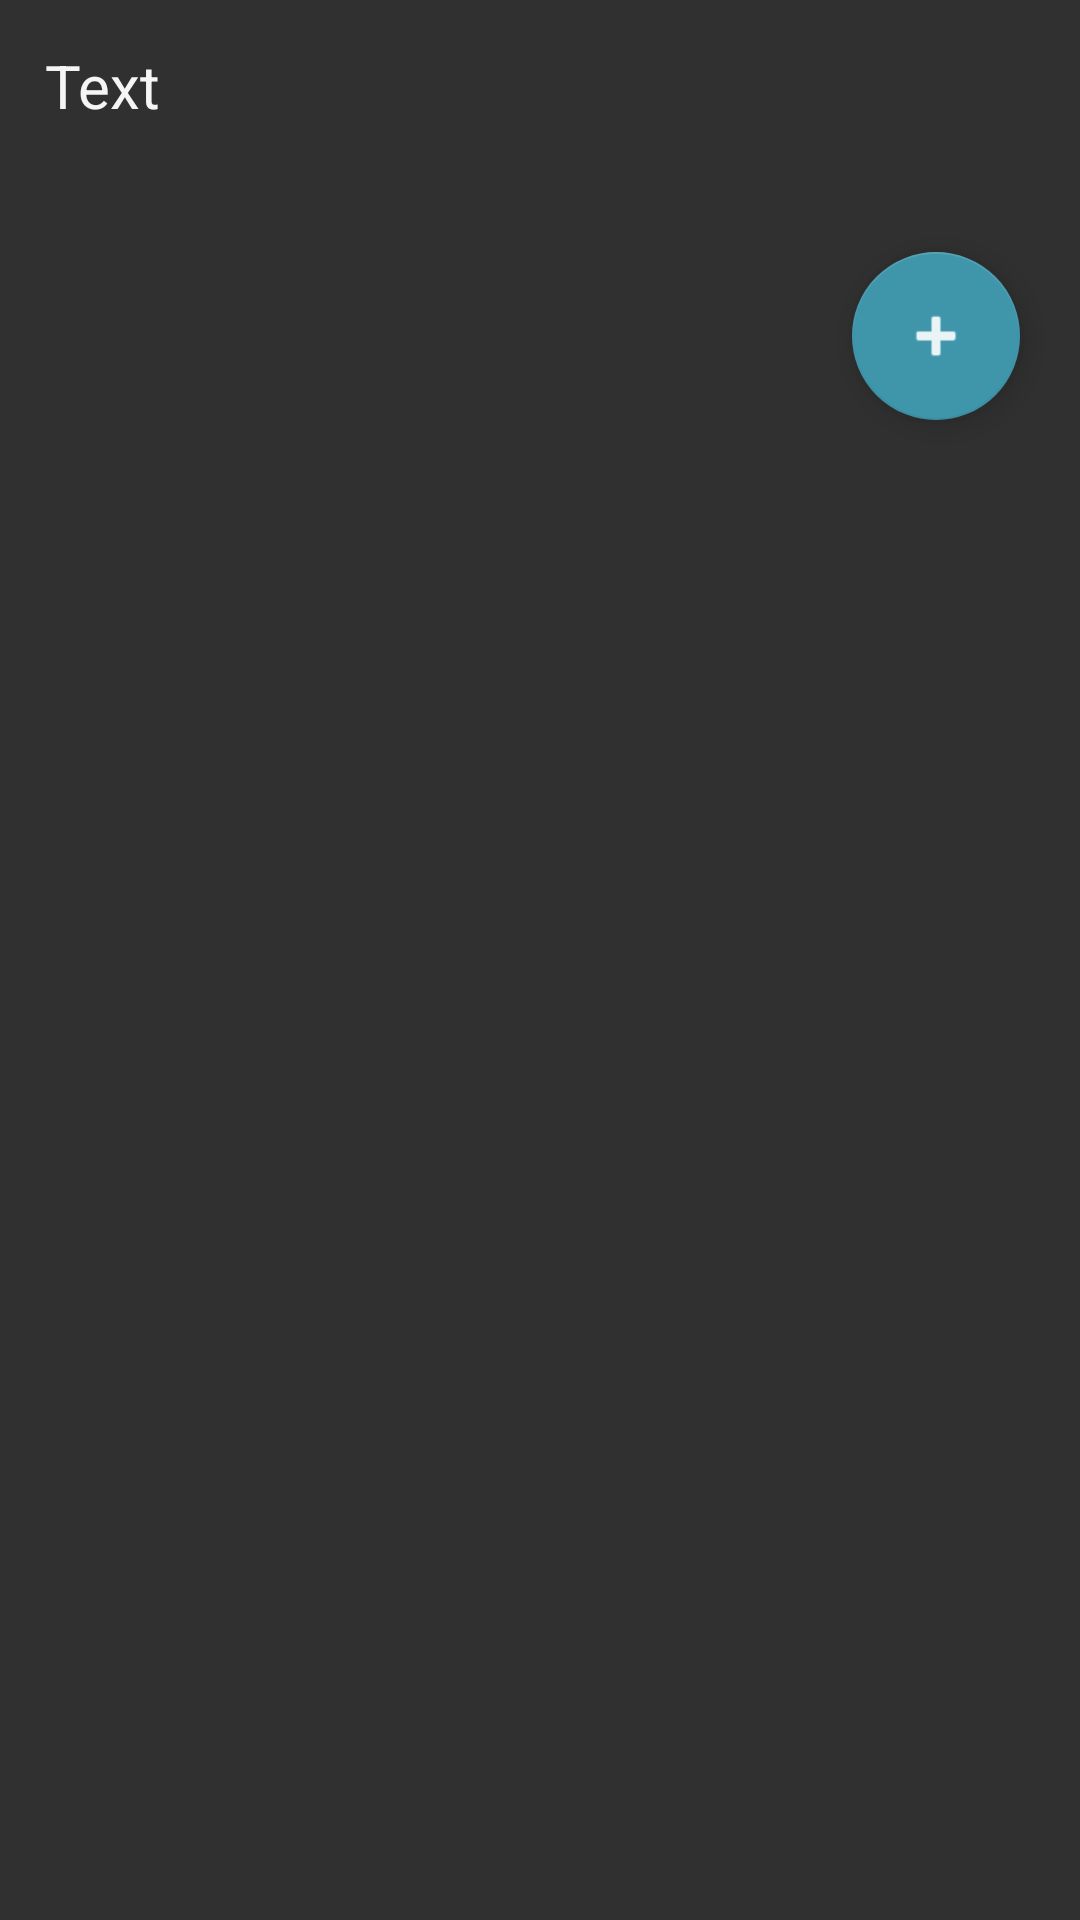

Icons on this 1080x1920 Android screen, each with the point to tap as point (x, y):
add: point (936, 336)
